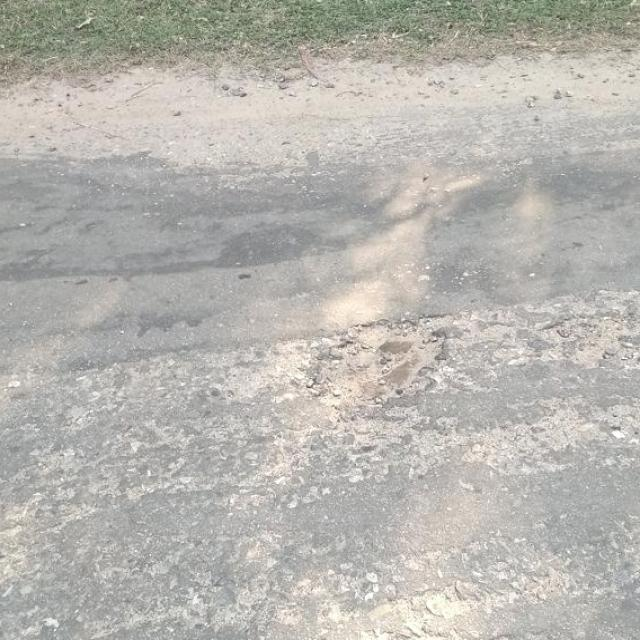road-pothole: (284, 290, 639, 413)
